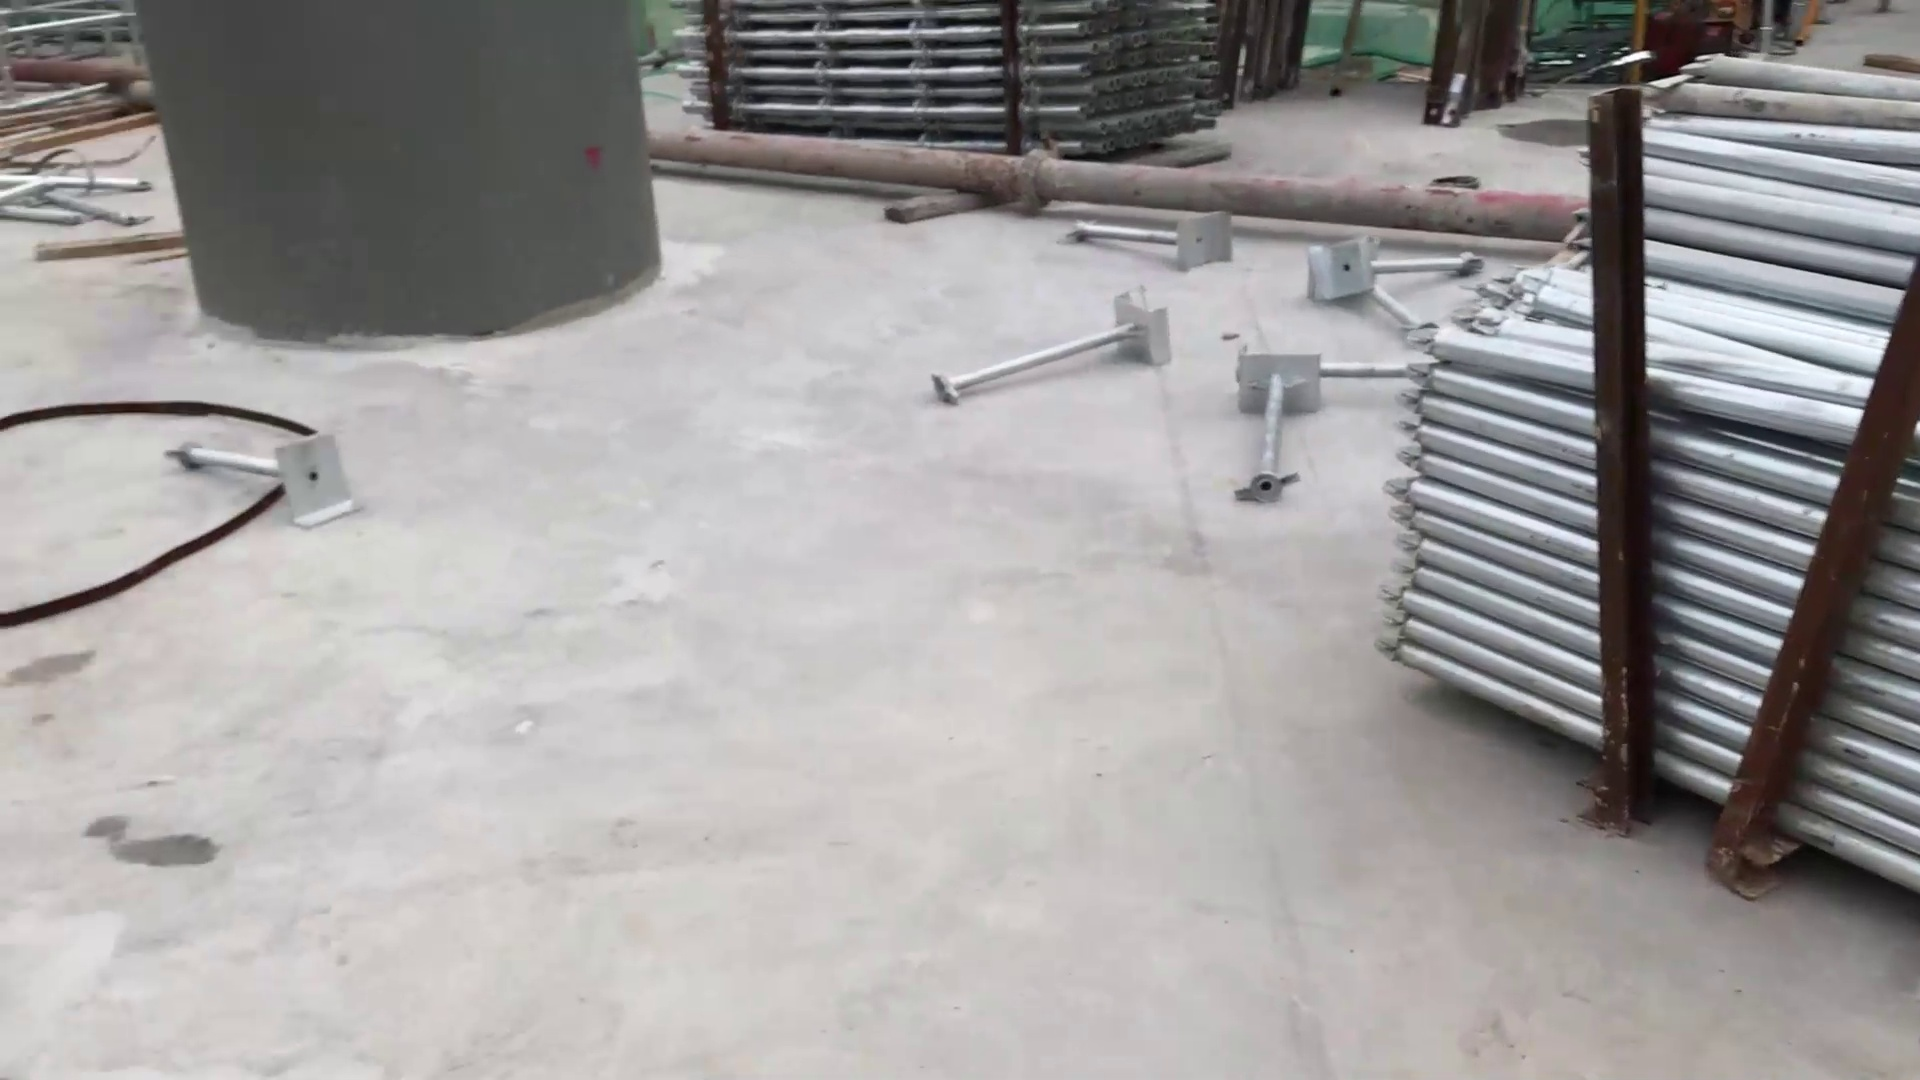scaffold: (1340, 47, 1920, 924), (686, 1, 1244, 165)
